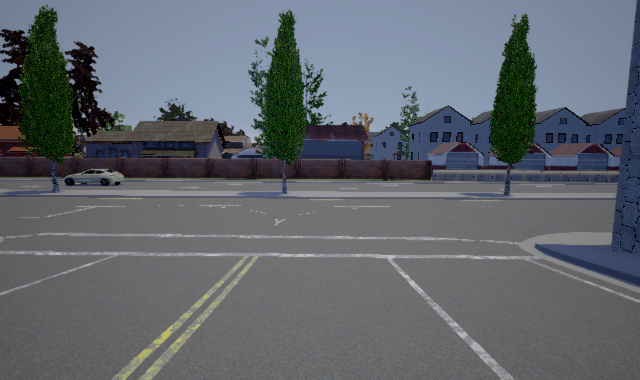vehicle: (64, 169, 125, 186)
